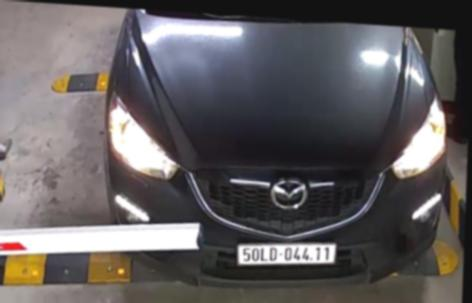License_Plate: (231, 233, 338, 269)
